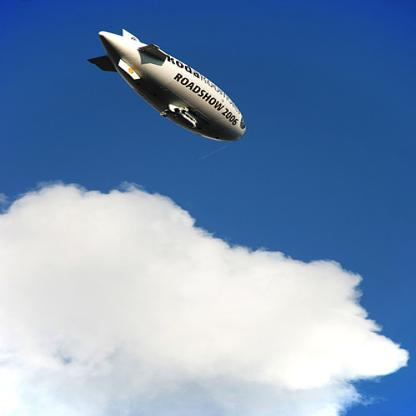Airship: (82, 19, 255, 151)
